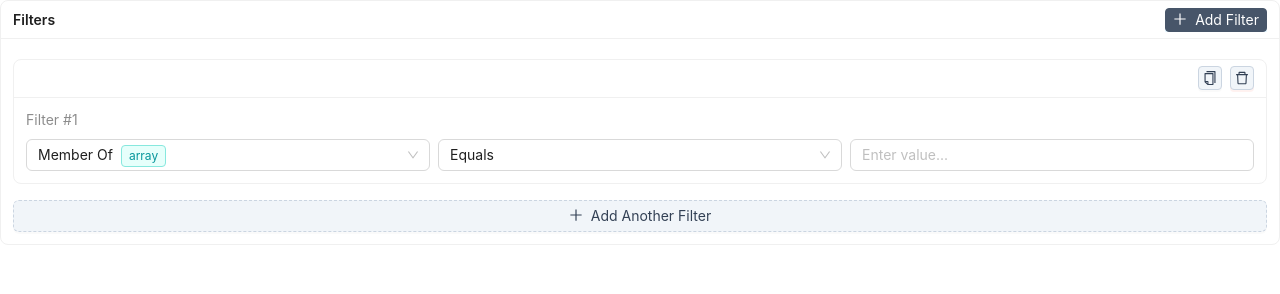
FilterBuilder › should handle array type filters
The width and height of the screenshot is (1280, 294).
# Click on operator selector
Press the mouse on the dropdown at (472, 154), box [450, 146, 494, 162]
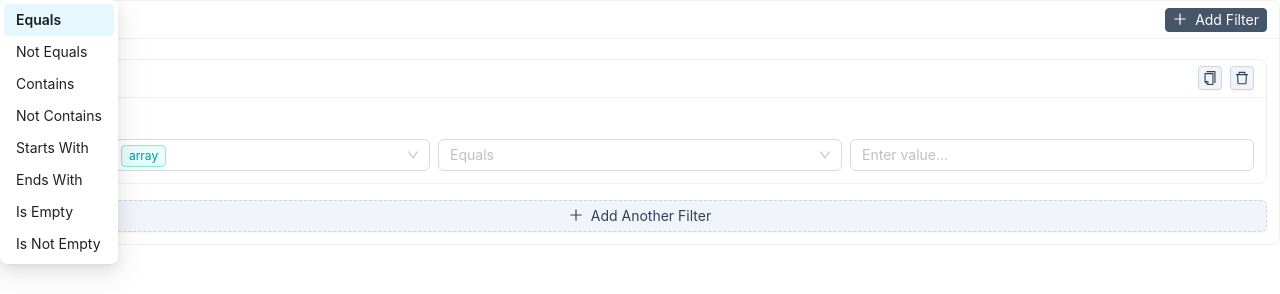
Expected: the text "Contains" is shown, [16, 75, 74, 92]
Expected: the text "Not Contains" is shown, [16, 105, 102, 127]
Expected: the text "Is Empty" is shown, [16, 203, 73, 220]
